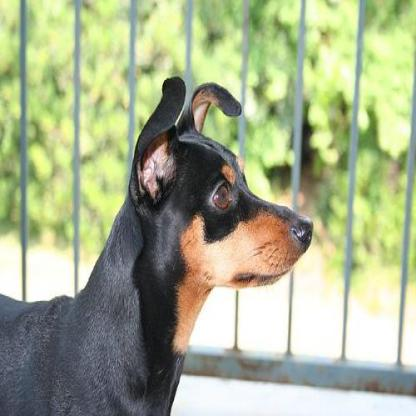miniature_pinscher: (0, 76, 314, 414)
